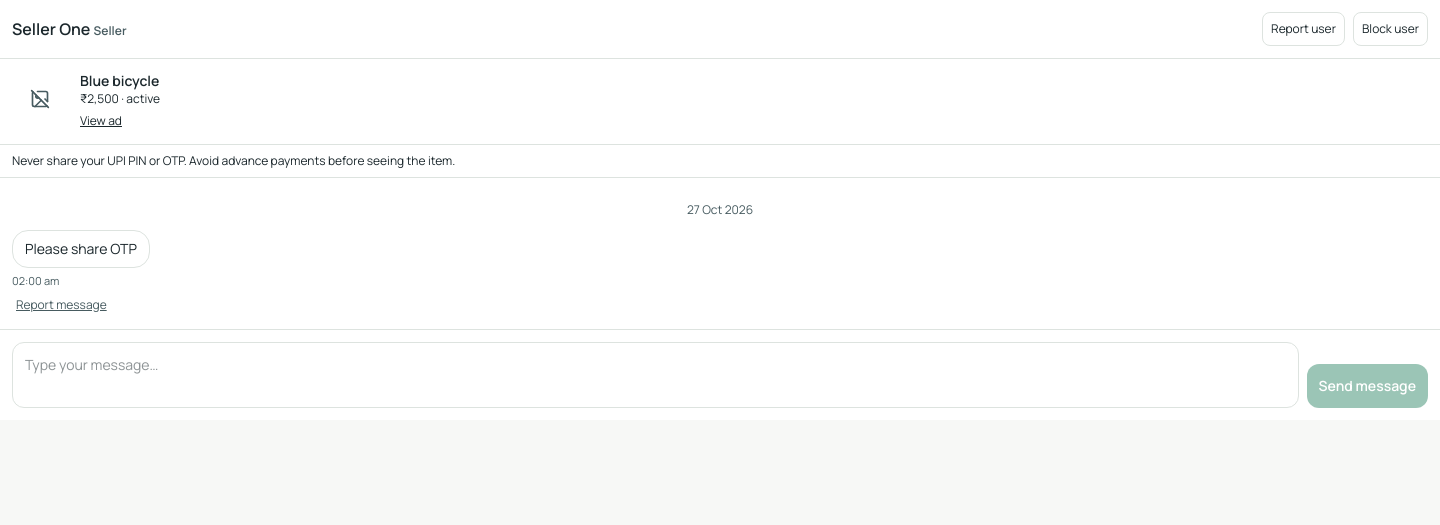
Test: keeps the original client_request_id through pending, failure and retry
This screenshot has width=1440, height=525.
Type "Retry this text" into the text box at [655, 375], box [12,342,1298,408]
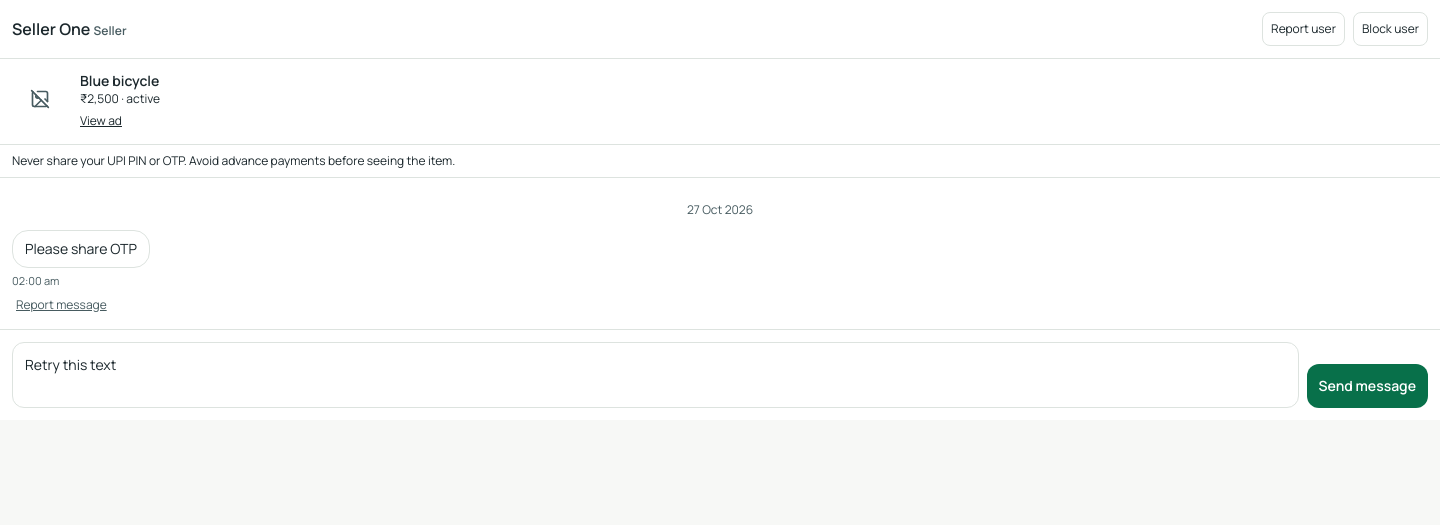
Click the button "Send message" at [1367, 386], box [1306,364,1428,408]
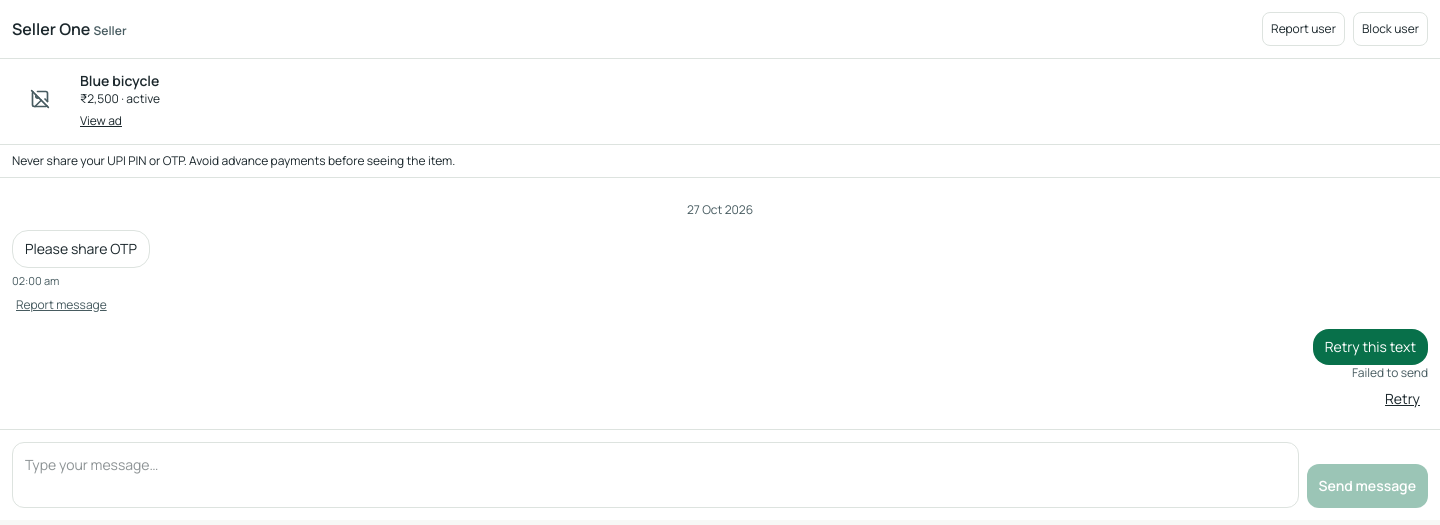
expect the text "Failed to send" is shown: met, box [1352,365,1428,381]
Click the button "Retry" at [1402, 399], box [1377,381,1428,417]
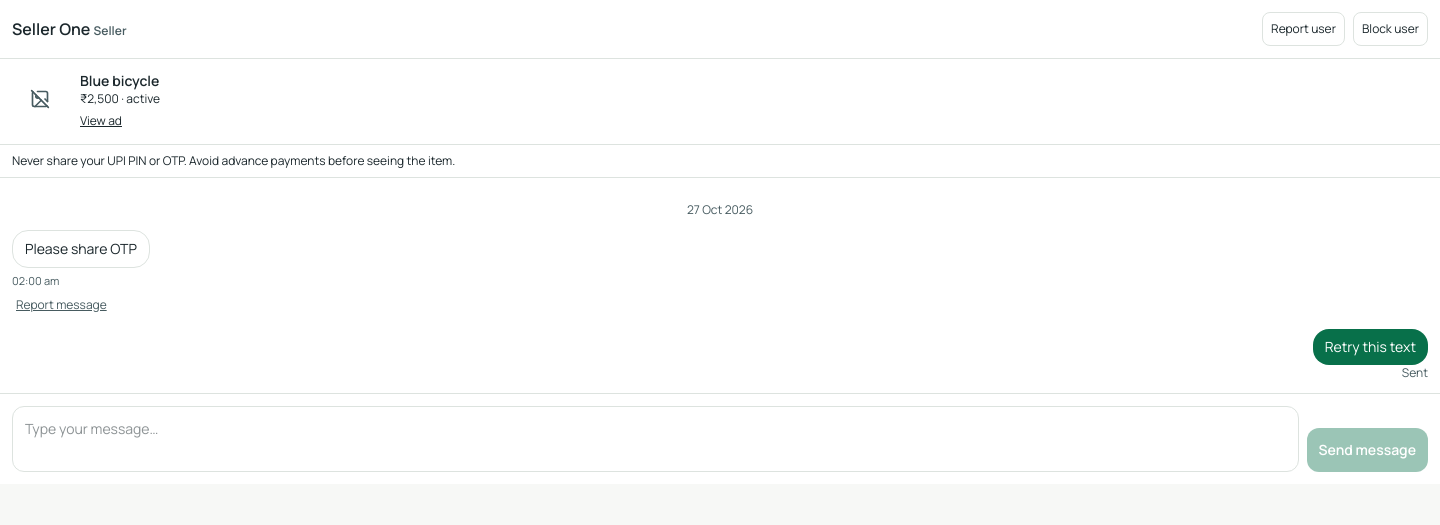
expect the text "Sent" is shown: met, box [1402,365,1428,381]
